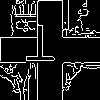T: (25, 25, 55, 71)
